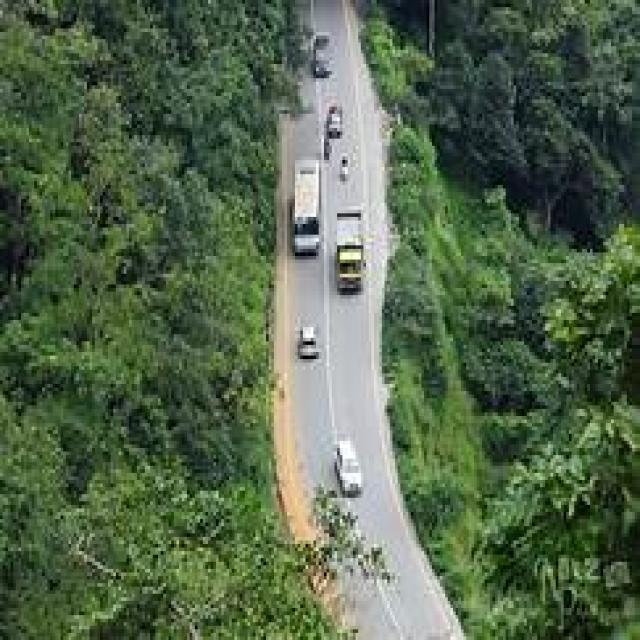Bus: (294, 160, 320, 254)
Truck: (337, 212, 361, 291)
